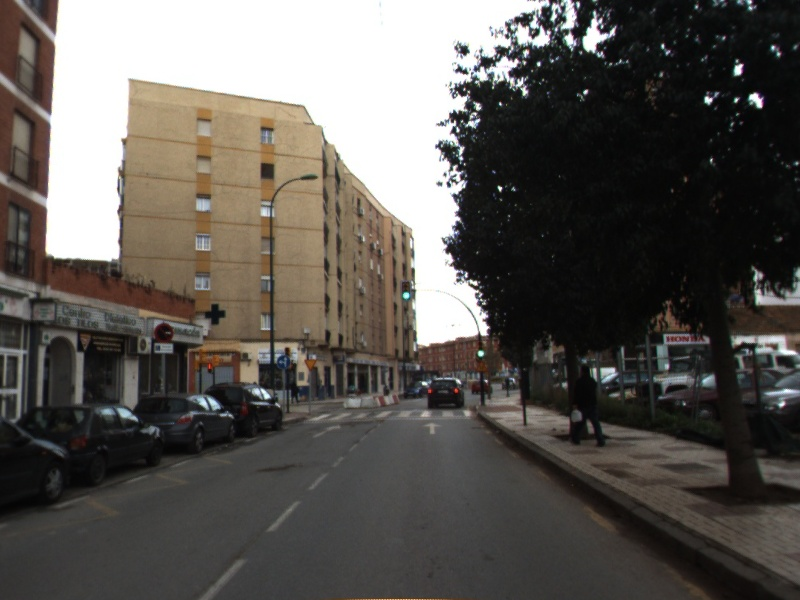STRAIGHT: (309, 422, 344, 440), (420, 420, 444, 436)
